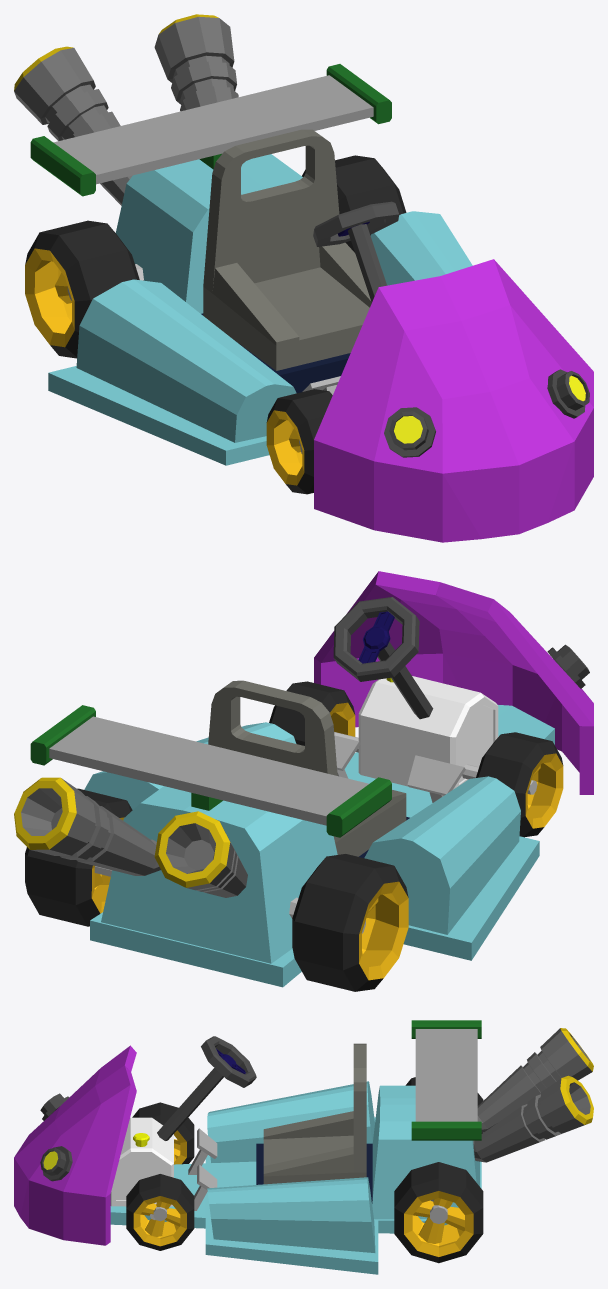
The model's file is Kart1.glb.
3 renders of one model, top to bottom at view 1: azimuth 30°, elevation 25°; view 2: azimuth 150°, elevation 25°; view 3: azimuth 270°, elevation 25°, orthographic. The views are drawn at different scales.
Parts seen in each view (by area): view 1: Hood2, KartPlataform1, Chair2, WingsKart1, Catalysts2, Wheel_BR, Wheel_FR, Lights_Kart2, SteeringWheel2, Wheel_BL; view 2: KartPlataform1, Hood2, WingsKart1, Catalysts2, Wheel_BR, Chair2, SteeringWheel2, Wheel_FR, Wheel_BL, Wheel_FL, Pedals1, Lights_Kart2; view 3: KartPlataform1, Hood2, Catalysts2, Chair2, WingsKart1, Wheel_BL, Wheel_FL, SteeringWheel2, Wheel_FR, Lights_Kart2, Pedals1.
Boxes of the visible parts, x1=… form: Hood2: x1=314, y1=259, x2=593, y2=542; KartPlataform1: x1=48, y1=154, x2=472, y2=465; Chair2: x1=201, y1=129, x2=371, y2=393; WingsKart1: x1=30, y1=64, x2=391, y2=196; Catalysts2: x1=14, y1=14, x2=238, y2=205; Wheel_BR: x1=25, y1=220, x2=139, y2=358; Wheel_FR: x1=266, y1=389, x2=332, y2=494; Lights_Kart2: x1=384, y1=369, x2=589, y2=457; SteeringWheel2: x1=313, y1=201, x2=399, y2=302; Wheel_BL: x1=302, y1=155, x2=406, y2=252; KartPlataform1: x1=84, y1=676, x2=554, y2=987; Hood2: x1=314, y1=571, x2=593, y2=794; WingsKart1: x1=30, y1=705, x2=391, y2=837; Catalysts2: x1=14, y1=777, x2=247, y2=897; Wheel_BR: x1=292, y1=854, x2=408, y2=991; Chair2: x1=208, y1=680, x2=409, y2=857; SteeringWheel2: x1=333, y1=597, x2=433, y2=719; Wheel_FR: x1=476, y1=732, x2=563, y2=837; Wheel_BL: x1=25, y1=788, x2=132, y2=926; Wheel_FL: x1=269, y1=681, x2=355, y2=745; Pedals1: x1=334, y1=735, x2=465, y2=802; Lights_Kart2: x1=547, y1=644, x2=589, y2=688; KartPlataform1: x1=110, y1=1081, x2=481, y2=1274; Hood2: x1=14, y1=1045, x2=136, y2=1245; Catalysts2: x1=473, y1=1028, x2=593, y2=1162; Chair2: x1=256, y1=1043, x2=372, y2=1203; WingsKart1: x1=411, y1=1020, x2=481, y2=1140; Wheel_BL: x1=394, y1=1162, x2=483, y2=1263; Wheel_FL: x1=126, y1=1174, x2=194, y2=1250; SteeringWheel2: x1=157, y1=1036, x2=256, y2=1140; Wheel_FR: x1=132, y1=1102, x2=194, y2=1164; Lights_Kart2: x1=40, y1=1093, x2=72, y2=1181; Pedals1: x1=188, y1=1128, x2=217, y2=1210.
Bounding box in the file's own units: 10.53 × 5.59 × 17.78.
